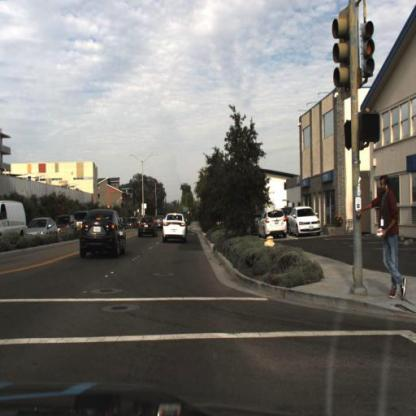car: (80, 209, 129, 259), (288, 202, 324, 240), (255, 208, 289, 242), (256, 208, 287, 241), (22, 216, 61, 240), (162, 213, 189, 245), (135, 214, 162, 240), (56, 212, 81, 239), (26, 217, 60, 235)
pedestrian: (356, 175, 409, 305)
